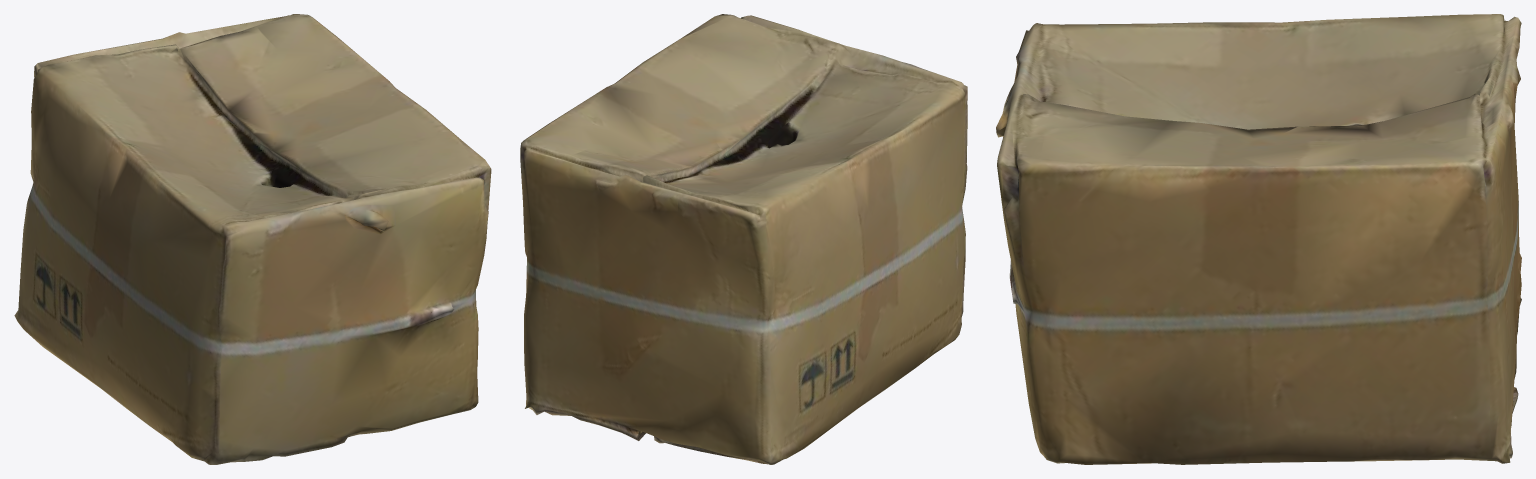
Rendered from cardboard_box_01.glb.
3 views of the same model, side by side, from view 1: azimuth 30°, elevation 25°; view 2: azimuth 150°, elevation 25°; view 3: azimuth 270°, elevation 25° (orthographic). The views are drawn at different scales.
Visible parts, largest first — view 1: cardboard_box_01; view 2: cardboard_box_01; view 3: cardboard_box_01.
Part boxes in pixels (x1=…): cardboard_box_01: x1=14, y1=14, x2=491, y2=464; cardboard_box_01: x1=520, y1=14, x2=967, y2=464; cardboard_box_01: x1=996, y1=14, x2=1521, y2=464.
Bounding box in the file's own units: 0.3867 × 0.3418 × 0.5159.
Materials: 1 (1 with a texture image).
